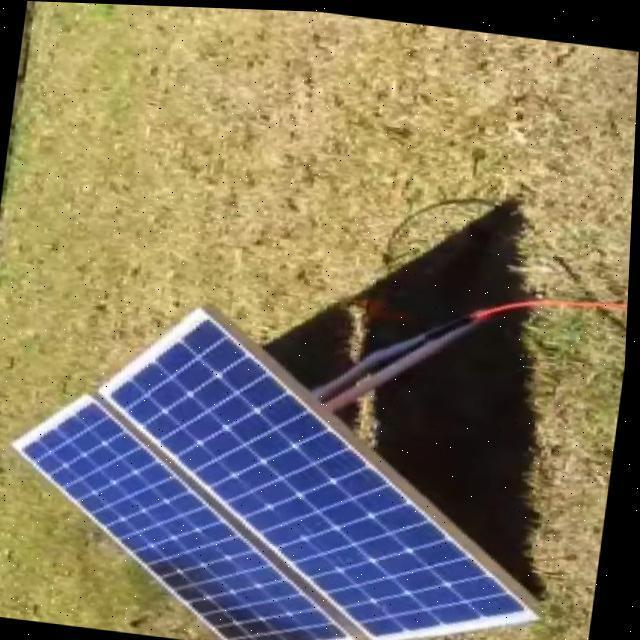Normal Solar Panel: (0, 290, 570, 640)
